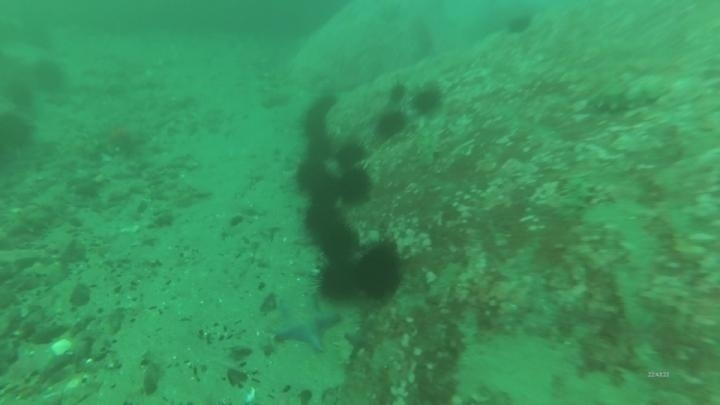echinus: (351, 239, 406, 302), (314, 259, 361, 304), (315, 220, 360, 264), (300, 200, 342, 242), (332, 167, 373, 209), (293, 157, 334, 198), (30, 57, 68, 96), (1, 110, 35, 153), (410, 83, 445, 118), (3, 78, 37, 112), (374, 108, 408, 141), (334, 139, 368, 171), (297, 110, 326, 146), (305, 133, 336, 165), (316, 87, 345, 116), (503, 12, 535, 38), (386, 80, 408, 106)
holothurian: (2, 182, 73, 241), (579, 76, 670, 117)
starfish: (269, 293, 342, 352), (94, 117, 148, 156)
